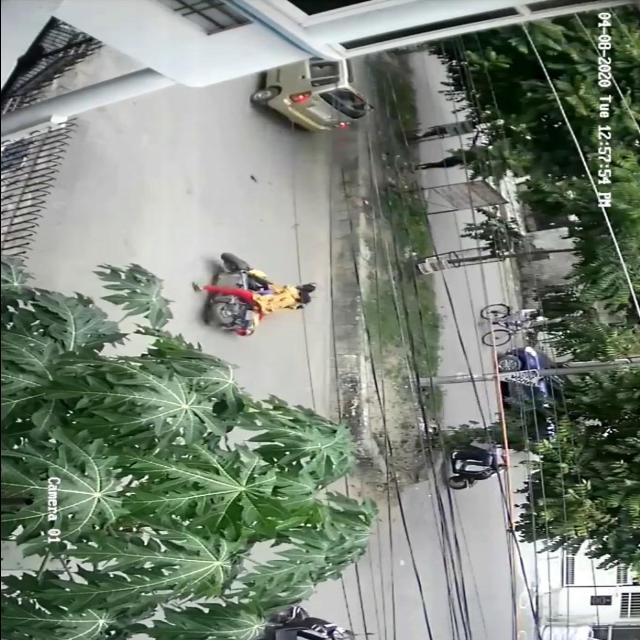accident: (191, 249, 321, 339)
